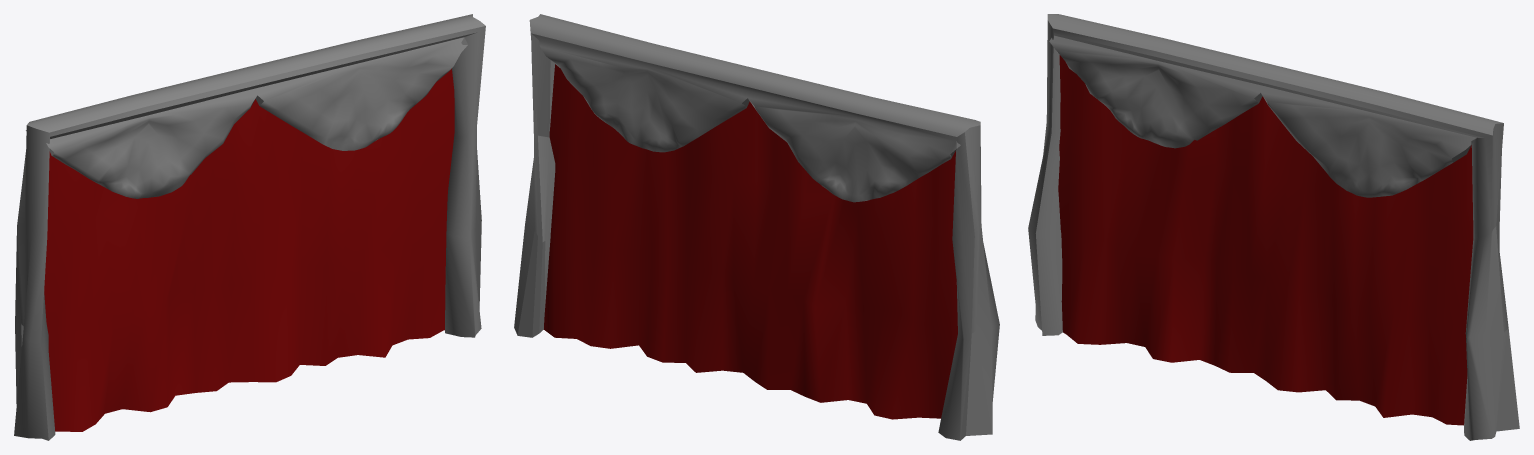
File: Curtains.fbx
3 views of the same model, side by side, from view 1: azimuth 30°, elevation 25°; view 2: azimuth 150°, elevation 25°; view 3: azimuth 330°, elevation 25° (orthographic).
Parts seen in each view (by area): view 1: Curtain, Frame; view 2: Curtain, Frame; view 3: Curtain, Frame.
Boxes of the visible parts, x1,y1,x2,y2 form: Curtain: (44,68,454,431); Frame: (14,14,485,440); Curtain: (543,64,957,419); Frame: (514,14,999,440); Curtain: (1058,55,1473,425); Frame: (1028,14,1519,440).
Size of the model in its own units: 66.01 by 41.21 by 7.86.
